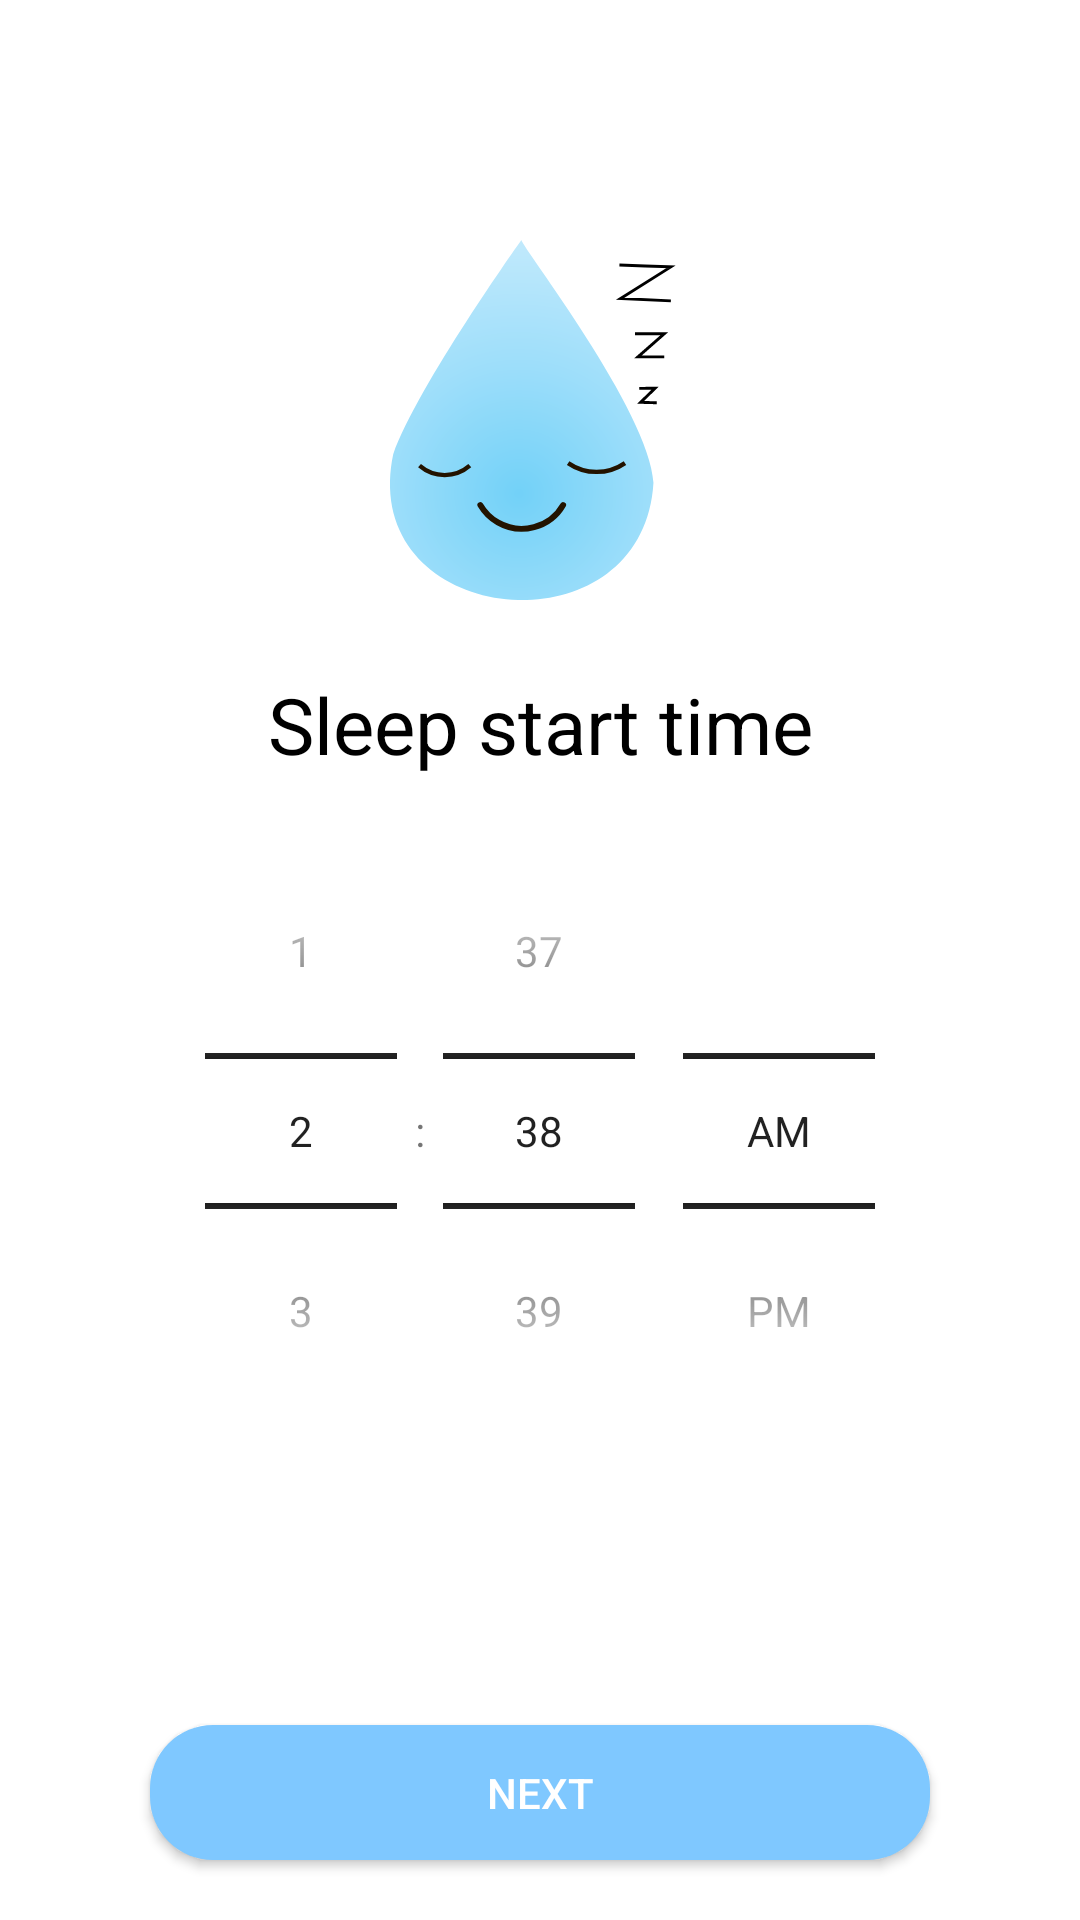

Icons on this 1080 x 1920 Android screen, each with its box as (x1, y1, x2, y2):
watersleap: (390, 240, 676, 600)
